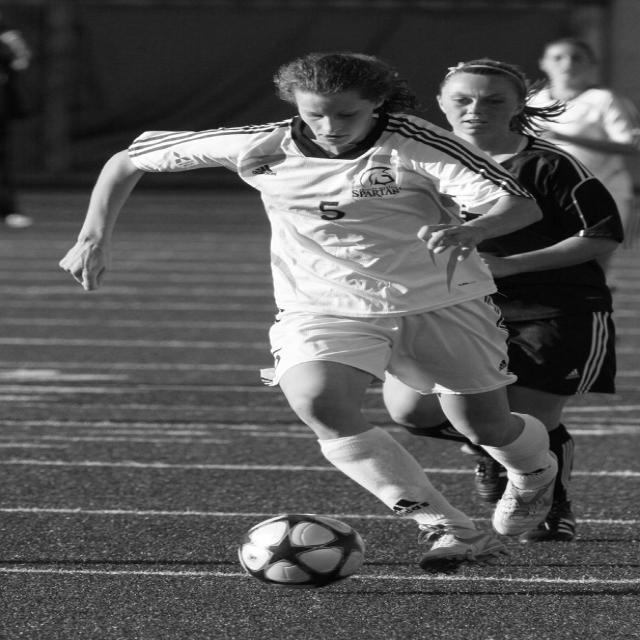football: (224, 499, 372, 611)
